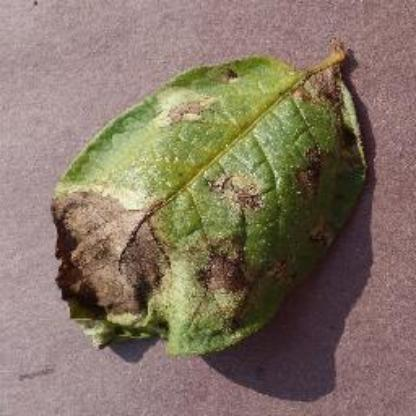Late-Blight: (15, 36, 393, 388)
